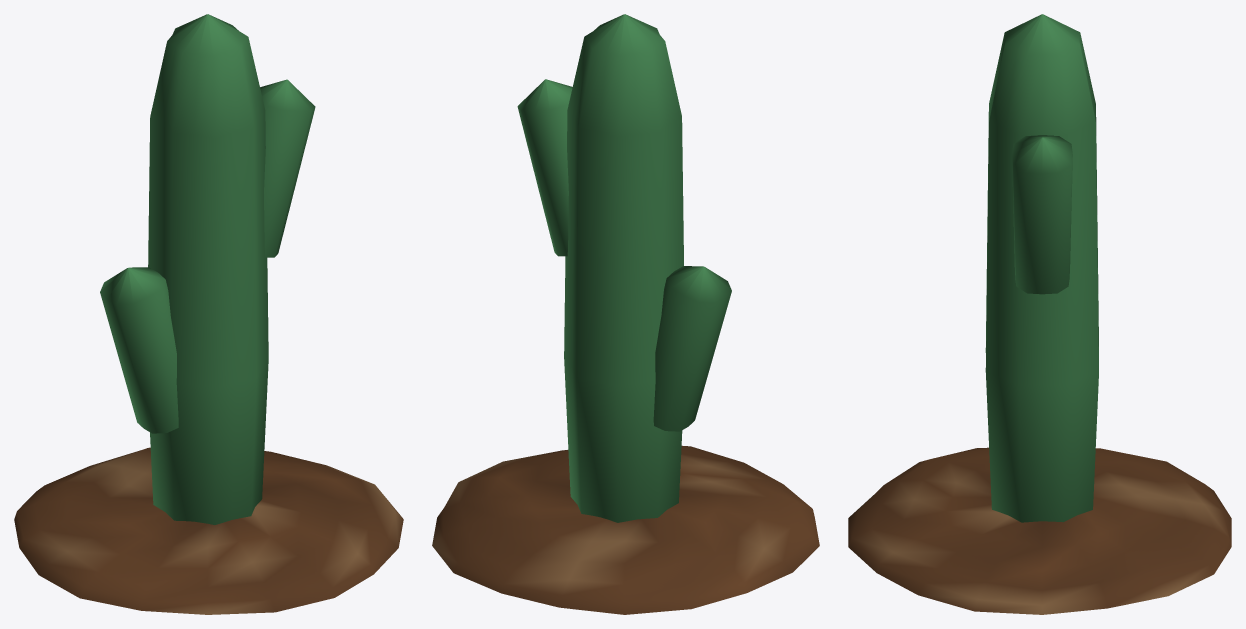
File: plant-cactus-4.gltf
3 views of the same model, side by side, from view 1: azimuth 30°, elevation 25°; view 2: azimuth 150°, elevation 25°; view 3: azimuth 270°, elevation 25° (orthographic).
Size of the model in its own units: 1.28 by 1.88 by 1.26.
